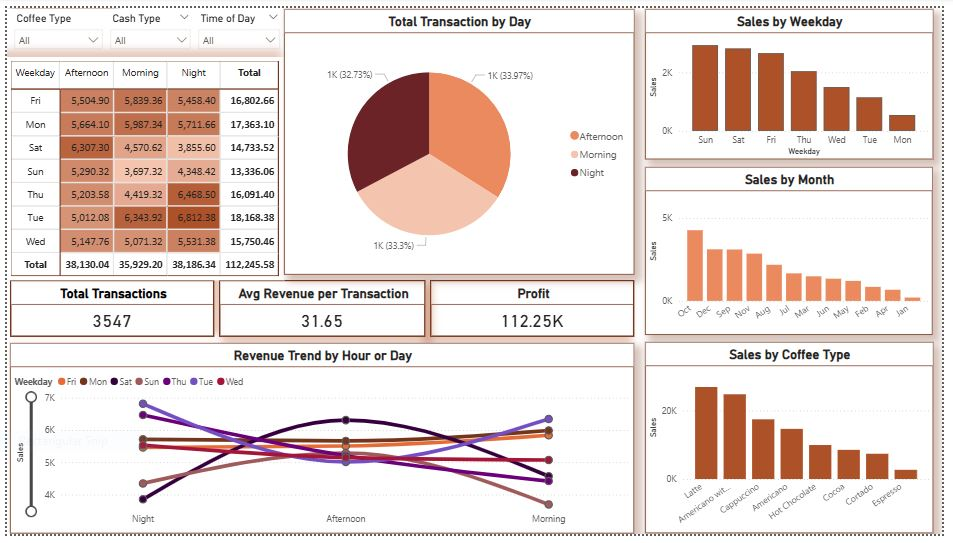

Layout of this report page (visuals, bound fields, positions):
{"tool":"powerbi","page":{"name":"Page 1","canvas":[1280,720],"ordinal":0},"visuals":[{"type":"card","title":"Profit","fields":{"Values":["Sum(Coffe_sales.money)"]},"box":[579.7,372.5,279.7,78.3],"z":0},{"type":"card","title":"Total Transactions","fields":{"Values":["Coffe_sales.Total Transactions"]},"box":[4.3,372.5,279.7,78.3],"z":1000},{"type":"card","title":"Avg Revenue per Transaction","fields":{"Values":["Coffe_sales.Avg Revenue per Transaction"]},"box":[289.9,372.5,282.6,78.3],"z":2000},{"type":"columnChart","title":"Sales by Weekday","fields":{"Category":["Coffe_sales.Weekday"],"Y":["Sum(Coffe_sales.Weekdaysort)"]},"box":[873.8,1.4,394.7,205.9],"z":3000},{"type":"columnChart","title":"Sales by Month","fields":{"Category":["Coffe_sales.Month_name"],"Y":["Sum(Coffe_sales.Monthsort)"]},"box":[873.9,217.4,394.2,230.4],"z":4000},{"type":"columnChart","title":"Sales by Coffee Type","fields":{"Category":["Coffe_sales.coffee_name"],"Y":["Coffe_sales.Total Revenue"]},"box":[873.8,457.7,394.7,261.7],"z":5000},{"type":"lineChart","title":"Revenue Trend by Hour or Day","fields":{"Category":["Coffe_sales.Time_of_Day"],"Series":["Coffe_sales.Weekday"],"Y":["Sum(Coffe_sales.money)"]},"box":[4.3,459.4,855.1,260.9],"z":6000},{"type":"slicer","fields":{"Values":["Coffe_sales.coffee_name"]},"box":[0,1.4,140.6,72.5],"z":7000},{"type":"slicer","fields":{"Values":["Coffe_sales.cash_type"]},"box":[131.9,1.4,130.4,72.5],"z":8000},{"type":"slicer","fields":{"Values":["Coffe_sales.Time_of_Day"]},"box":[251.7,1.4,131.6,72.9],"z":9000},{"type":"pivotTable","fields":{"Rows":["Coffe_sales.Weekday"],"Columns":["Coffe_sales.Time_of_Day"],"Values":["Sum(Coffe_sales.money)"]},"box":[0,66.7,379.7,305.8],"z":10000},{"type":"pieChart","title":"Total Transaction by Day","fields":{"Y":["Coffe_sales.Total Transactions"],"Series":["Coffe_sales.Time_of_Day"]},"box":[379.7,1.4,479.7,363.8],"z":11000}]}

Visuals, with their boxes in screenshot pixels (x1, y1, x2, y2), scaled from the page's 1280x720 canvas onto the 953x543 screenshot:
"Profit" card: crop(432, 281, 640, 340)
"Total Transactions" card: crop(3, 281, 211, 340)
"Avg Revenue per Transaction" card: crop(216, 281, 426, 340)
"Sales by Weekday" columnChart: crop(651, 1, 944, 156)
"Sales by Month" columnChart: crop(651, 164, 944, 338)
"Sales by Coffee Type" columnChart: crop(651, 345, 944, 542)
"Revenue Trend by Hour or Day" lineChart: crop(3, 346, 640, 542)
slicer - Coffe_sales.coffee_name: crop(0, 1, 105, 56)
slicer - Coffe_sales.cash_type: crop(98, 1, 195, 56)
slicer - Coffe_sales.Time_of_Day: crop(187, 1, 285, 56)
pivotTable - Coffe_sales.Weekday x Coffe_sales.Time_of_Day: crop(0, 50, 283, 281)
"Total Transaction by Day" pieChart: crop(283, 1, 640, 275)
